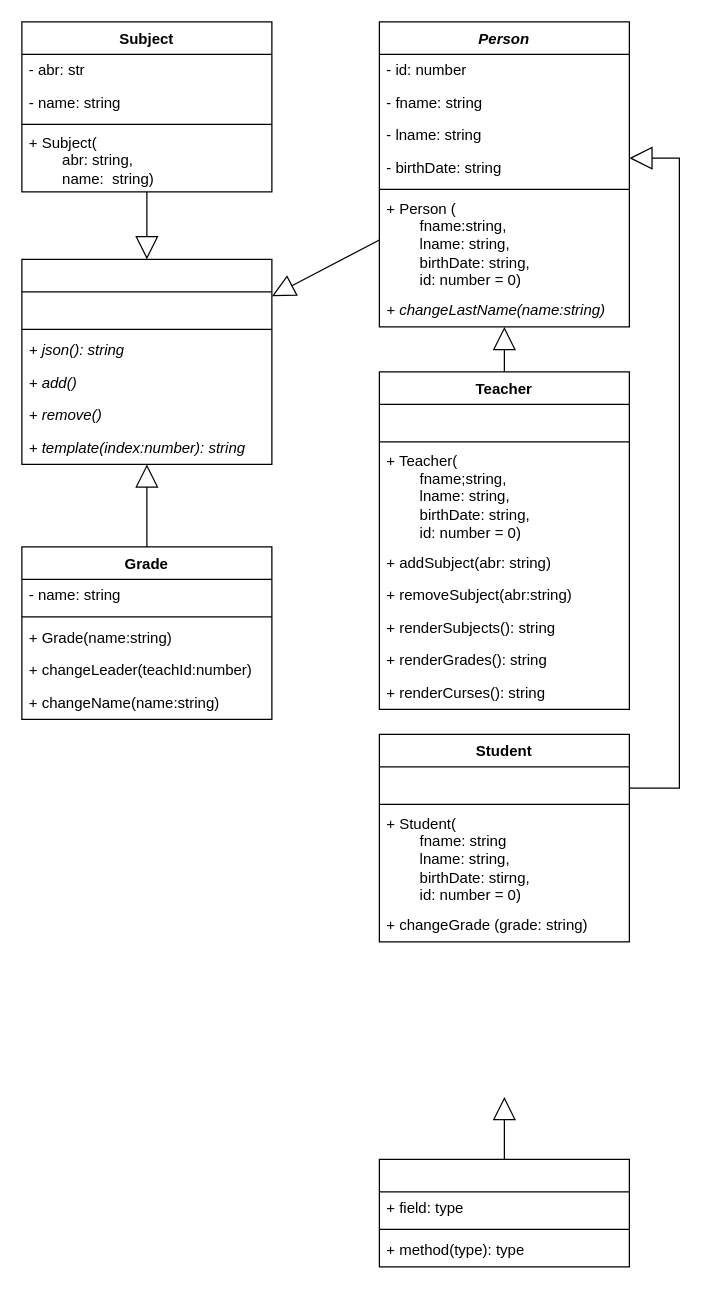
This 724x1289 diagram has some shape labels left out. The box of each missing label's shape, as (x1, y1, x2, y2) in pixels:
Classname: (378, 1158, 629, 1267)
SchoolObject: (21, 258, 272, 464)
